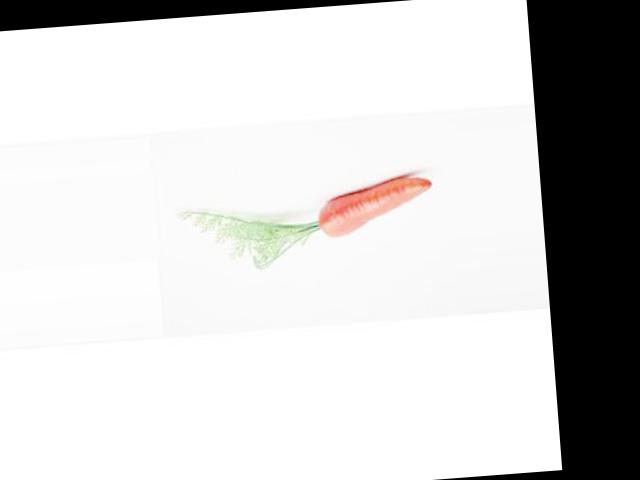carrot: (311, 159, 449, 242)
